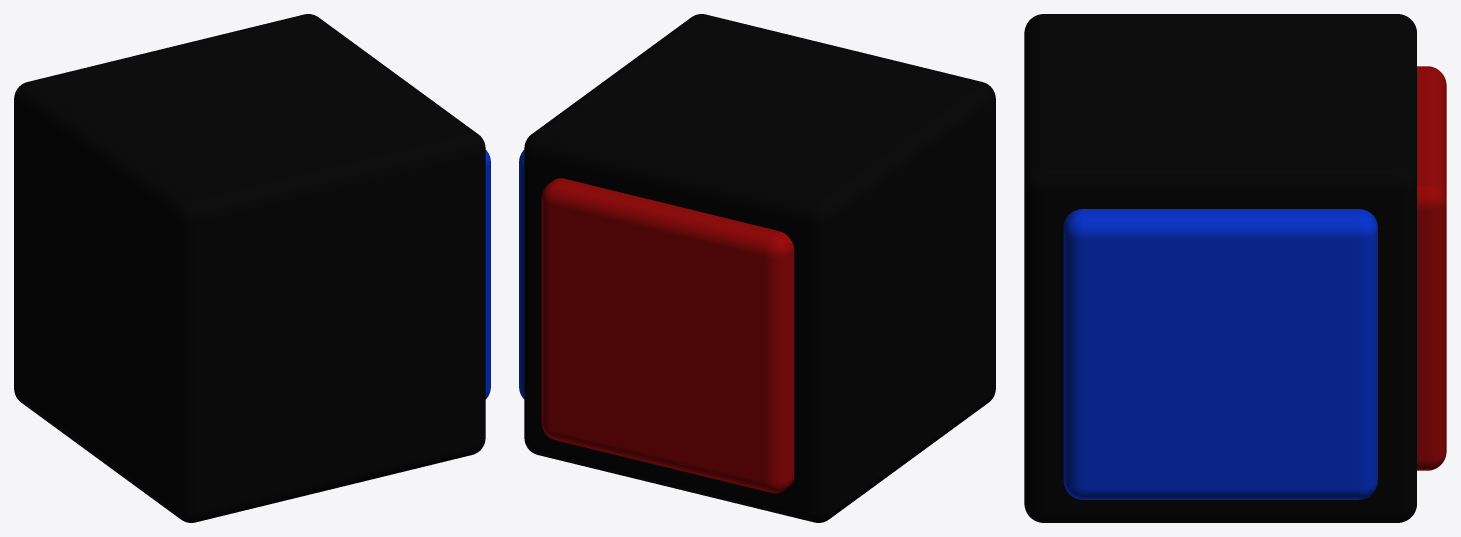
File: cubinho(-1, 0, -1).obj
3 renders of one model, left to right at view 1: azimuth 30°, elevation 25°; view 2: azimuth 150°, elevation 25°; view 3: azimuth 270°, elevation 25°, orthographic. The views are drawn at different scales.
Parts seen in each view (by area): view 1: (-1,_0,_-1); view 2: (-1,_0,_-1); view 3: (-1,_0,_-1).
Part boxes in pixels (x1,y1,x2,y2): (-1,_0,_-1): (14, 14, 490, 522); (-1,_0,_-1): (519, 14, 995, 522); (-1,_0,_-1): (1024, 14, 1446, 522).
Bounding box in the file's own units: 2.15 × 2 × 2.15.
